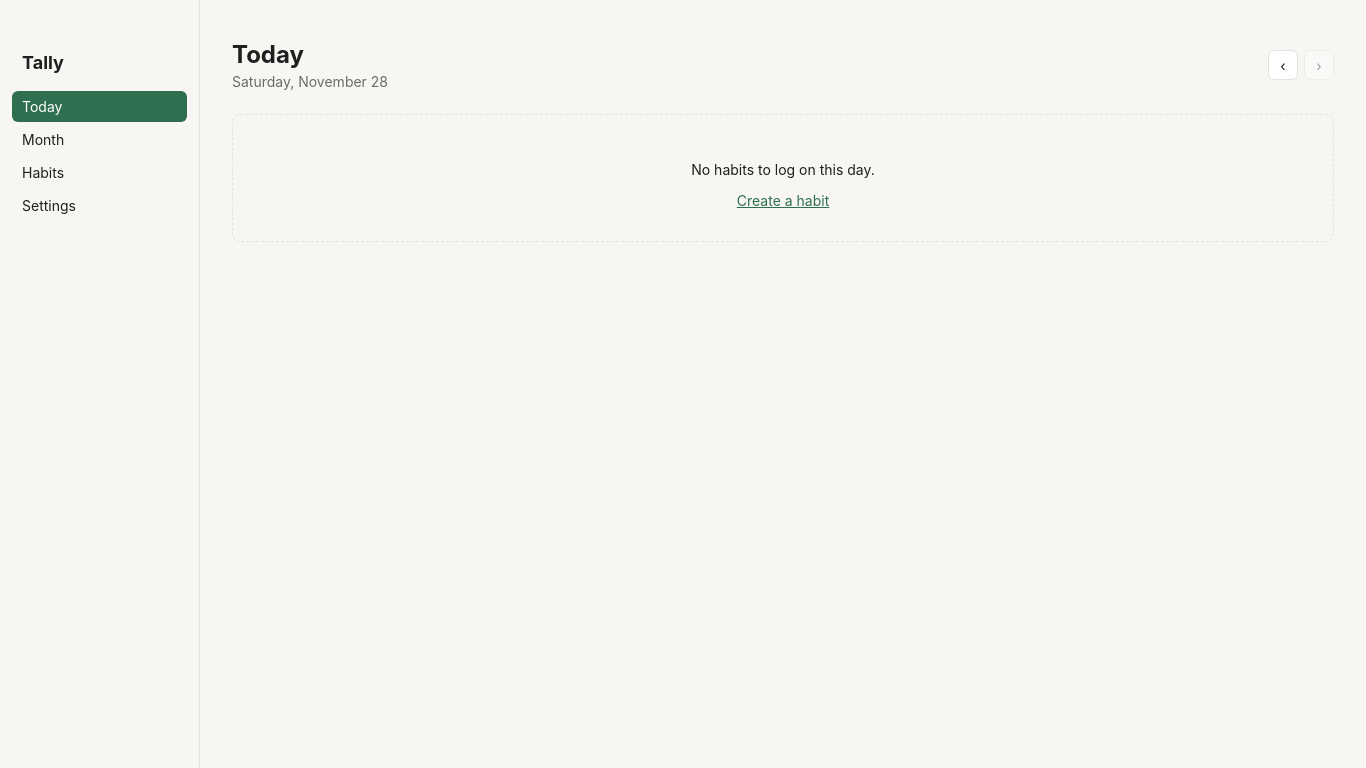
Test: AppRoutes › navigates between screens from the sidebar
Click the link "Month" at (43, 140), box x1=22 y1=131 x2=64 y2=148
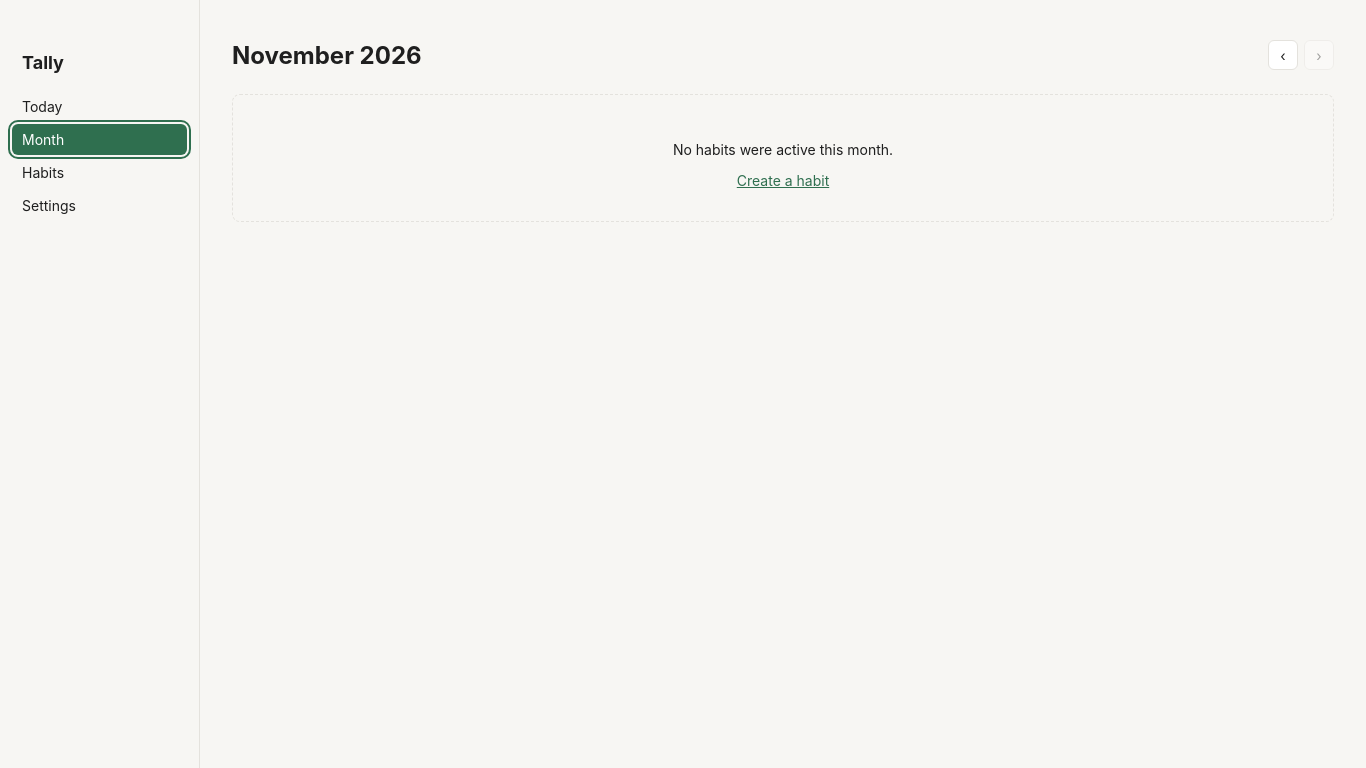
Expected: the button named "Previous month" is shown, x1=1268 y1=40 x2=1298 y2=70
